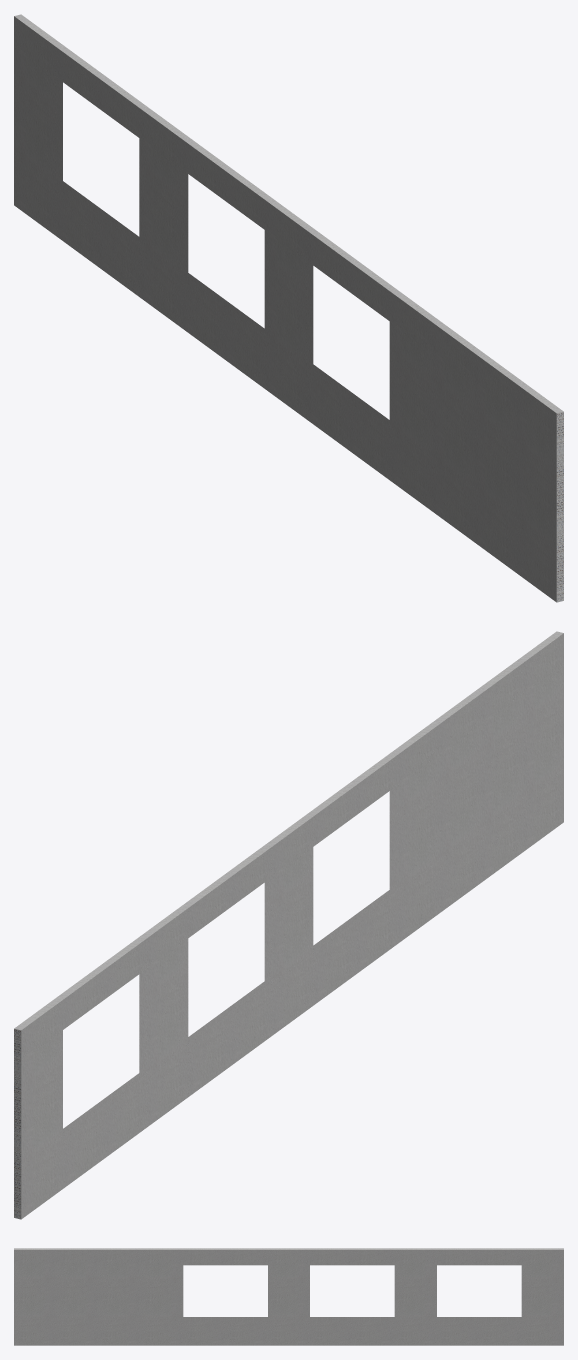
File: wall_1.obj
3 renders of one model, top to bottom at view 1: azimuth 30°, elevation 25°; view 2: azimuth 150°, elevation 25°; view 3: azimuth 270°, elevation 25°, orthographic. The views are drawn at different scales.
Parts seen in each view (by area): view 1: polySurface6 wall_4; view 2: polySurface6 wall_4; view 3: polySurface6 wall_4.
Part boxes in pixels (left/top/right/bottom): polySurface6 wall_4: left=14, top=14, right=563, bottom=602; polySurface6 wall_4: left=14, top=631, right=563, bottom=1219; polySurface6 wall_4: left=14, top=1248, right=563, bottom=1345.
Size of the model in its own units: 0.1 by 2.5 by 13.
1 material, 1 textured.
